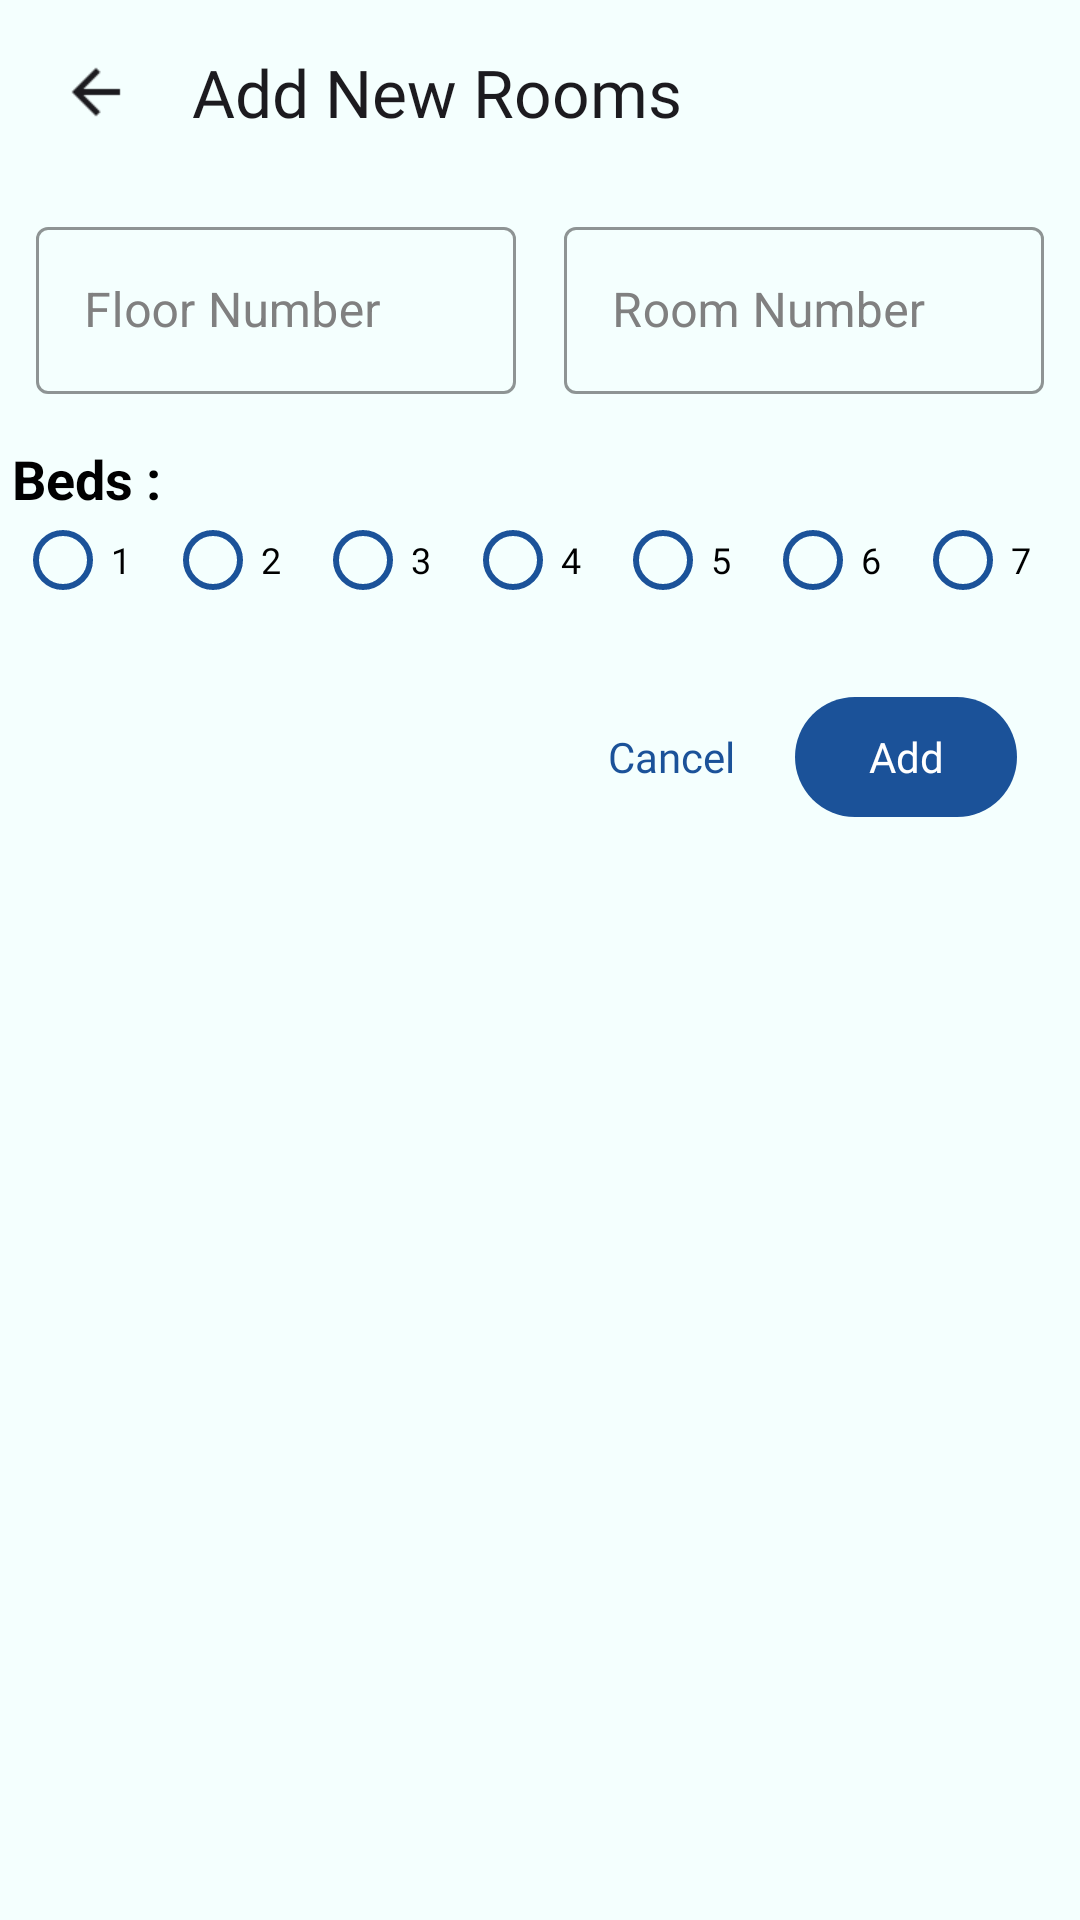

Icons on this 1080px×1920px Android screen, each with its box as {"x1": x1, "y1": y1, "x2": x2, "y2": y2}:
back: {"x1": 72, "y1": 68, "x2": 121, "y2": 116}
